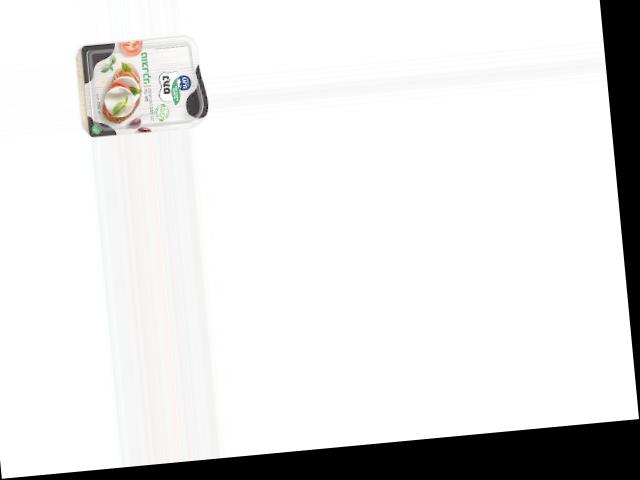cheese: (79, 33, 208, 137)
